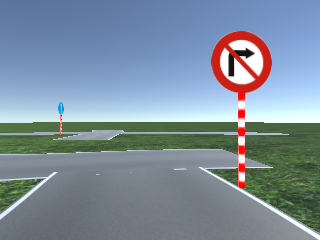-10: (1, 194, 320, 239)
NoRight: (210, 30, 273, 92)
